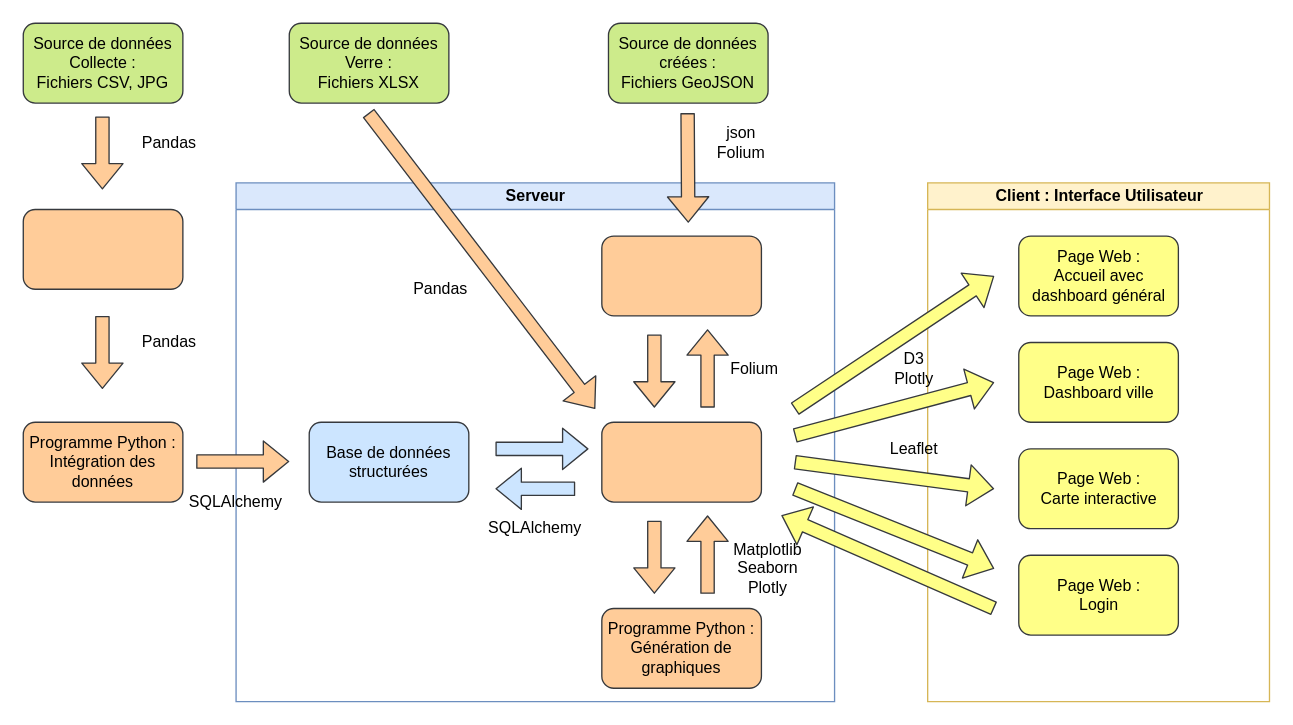
The diagram is 1293 pixels wide and 725 high, and some of its shapes have lost their labels. Each missing label, with the centre of its shape:
Application Flask avec système de routage: the point at 680,461
Programme Python : Analyse et nettoyage des données: the point at 102,248
Programme Python : Génération de carte: the point at 680,275
